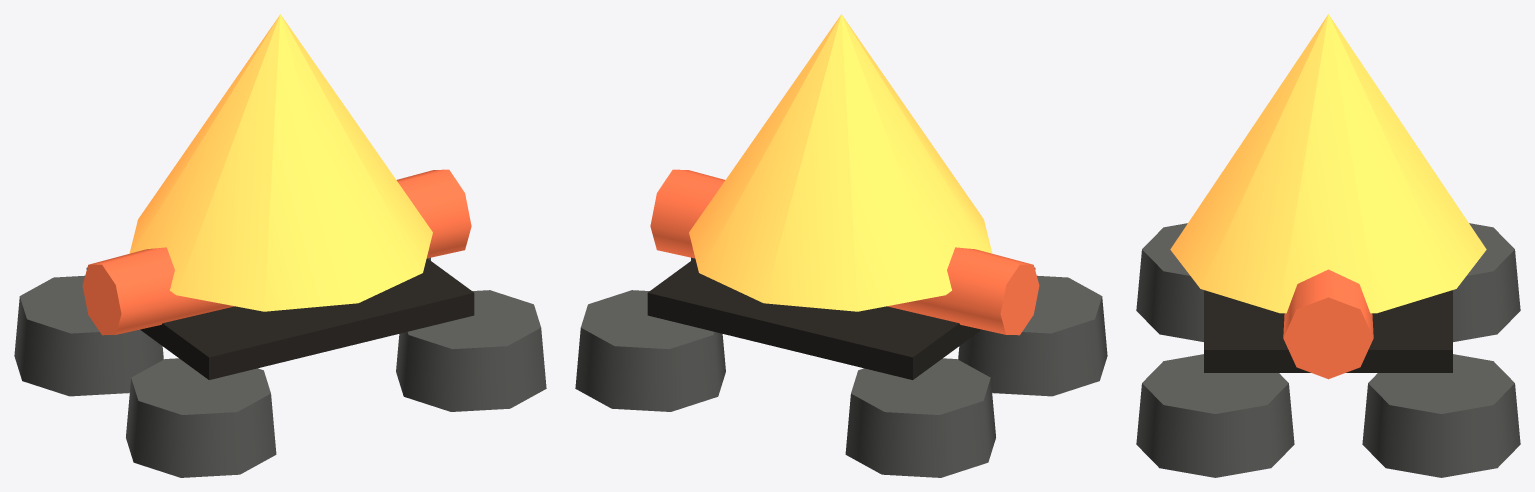
File: sk_hearth_fire.glb
3 views of the same model, side by side, from view 1: azimuth 30°, elevation 25°; view 2: azimuth 150°, elevation 25°; view 3: azimuth 270°, elevation 25° (orthographic).
Parts seen in each view (by area): view 1: object 3, brick, stone, object 4; view 2: object 3, brick, stone, object 4; view 3: object 3, brick, stone, object 4.
Part boxes in pixels (x1=…): object 3: x1=129, y1=14, x2=432, y2=311; brick: x1=14, y1=257, x2=546, y2=477; stone: x1=86, y1=258, x2=474, y2=379; object 4: x1=82, y1=169, x2=471, y2=335; object 3: x1=689, y1=14, x2=992, y2=311; brick: x1=575, y1=257, x2=1107, y2=477; stone: x1=647, y1=258, x2=1035, y2=379; object 4: x1=650, y1=169, x2=1039, y2=335; object 3: x1=1170, y1=14, x2=1486, y2=313; brick: x1=1136, y1=223, x2=1520, y2=477; stone: x1=1204, y1=290, x2=1452, y2=372; object 4: x1=1283, y1=269, x2=1373, y2=379.
Bounding box in the file's own units: 0.84 × 0.71 × 0.68.
